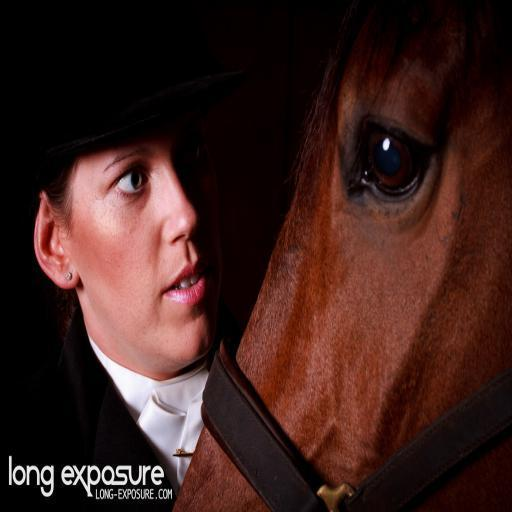horse: (171, 4, 511, 511)
